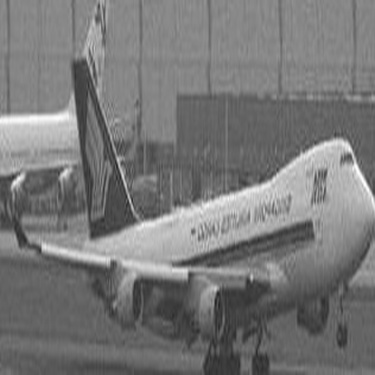airplane: (5, 4, 370, 374), (3, 2, 126, 210)
